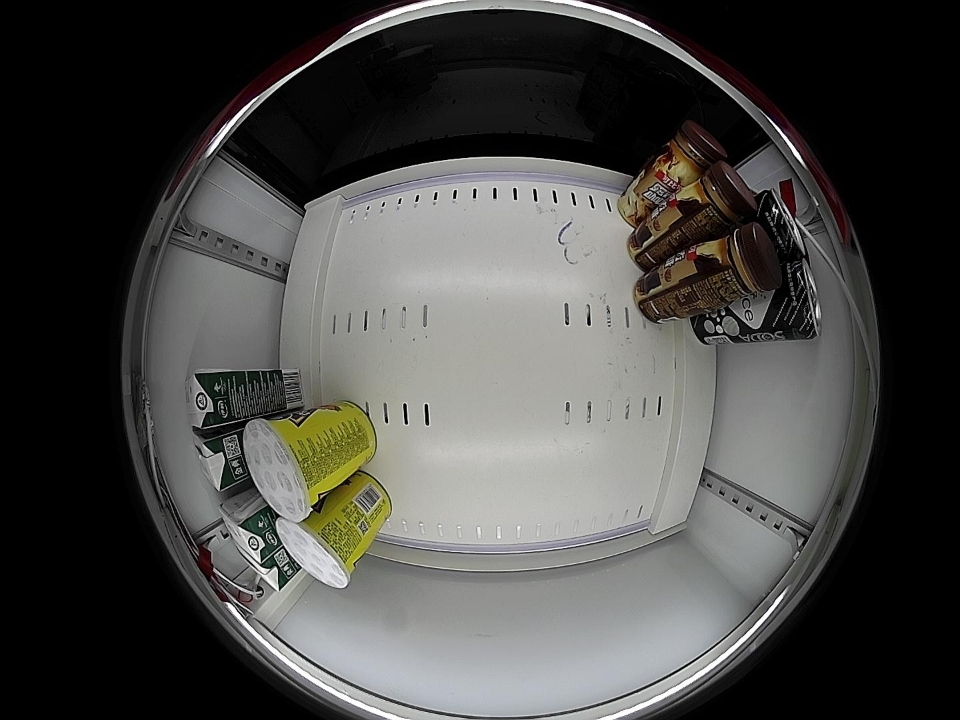jindian: (218, 495, 279, 565), (190, 427, 242, 493), (185, 371, 234, 433), (238, 545, 294, 591)
kebike: (243, 414, 324, 521), (275, 513, 358, 589)
lujikafei: (696, 222, 784, 308), (681, 161, 758, 236), (657, 121, 728, 185)
qingdaowangzi-1: (772, 259, 821, 341), (755, 187, 808, 260)
